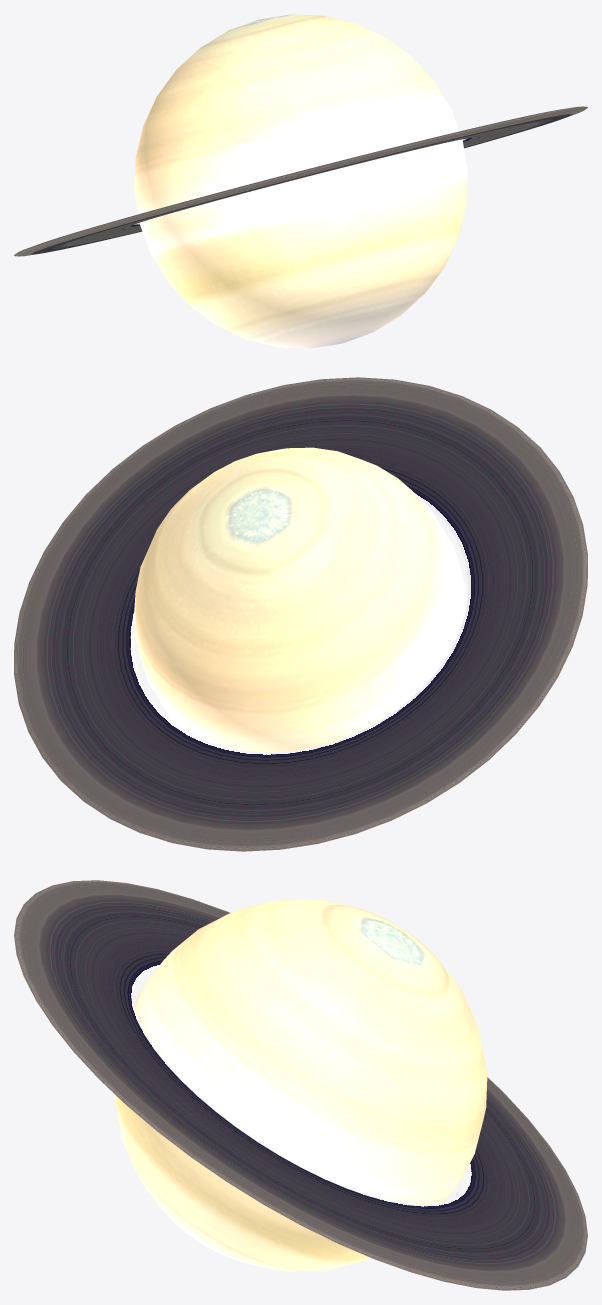
The model's file is saturn ring.glb.
The picture shows the model from 3 angles, top to bottom: view 1: azimuth 30°, elevation 25°; view 2: azimuth 150°, elevation 25°; view 3: azimuth 270°, elevation 25°; orthographic projection. The views are drawn at different scales.
Visible parts, largest first — view 1: 球体, 环体; view 2: 环体, 球体; view 3: 球体, 环体.
Boxes of the visible parts, bbox=[...] form: 球体: bbox=[134, 14, 467, 348]; 环体: bbox=[14, 106, 587, 256]; 环体: bbox=[14, 377, 587, 851]; 球体: bbox=[134, 447, 466, 752]; 球体: bbox=[114, 899, 487, 1271]; 环体: bbox=[14, 880, 587, 1290].
Bounding box in the file's own units: 3.55 × 2 × 3.07.
2 materials, 2 textured.
